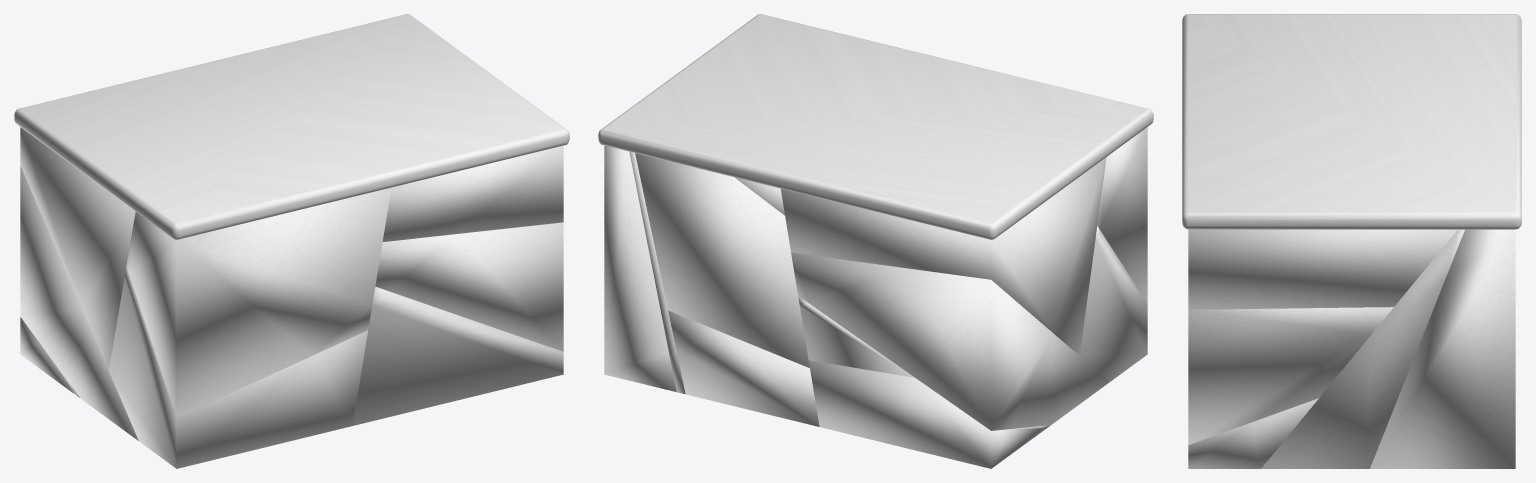
Rendered from fracture-solids.glb.
The picture shows the model from 3 angles, left to right: view 1: azimuth 30°, elevation 25°; view 2: azimuth 150°, elevation 25°; view 3: azimuth 270°, elevation 25°; orthographic projection. The views are drawn at different scales.
Visible parts, largest first — view 1: fragment-016, fragment-004, fragment-005, fragment-002, fragment-009, fragment-001, fragment-008, fragment-003, fragment-010; view 2: fragment-016, fragment-003, fragment-001, fragment-013, fragment-010, fragment-007, fragment-015, fragment-005, fragment-004, fragment-012, fragment-006, fragment-000; view 3: fragment-016, fragment-007, fragment-008, fragment-009, fragment-006, fragment-002.
Part boxes in pixels (x1,y1,x2,y2): fragment-016: [14, 14, 569, 239]; fragment-004: [126, 187, 391, 417]; fragment-005: [109, 267, 367, 468]; fragment-002: [352, 286, 563, 425]; fragment-009: [375, 222, 563, 351]; fragment-001: [20, 127, 135, 370]; fragment-008: [382, 145, 563, 241]; fragment-003: [20, 166, 138, 440]; fragment-010: [20, 317, 74, 393]; fragment-016: [598, 14, 1153, 239]; fragment-003: [791, 252, 1109, 430]; fragment-001: [780, 157, 1106, 355]; fragment-013: [635, 153, 809, 367]; fragment-010: [808, 360, 1045, 468]; fragment-007: [604, 145, 676, 391]; fragment-015: [668, 310, 819, 426]; fragment-005: [1079, 226, 1147, 381]; fragment-004: [1097, 127, 1147, 302]; fragment-012: [798, 296, 914, 377]; fragment-006: [629, 151, 685, 394]; fragment-000: [735, 177, 784, 215]; fragment-016: [1182, 14, 1521, 229]; fragment-007: [1370, 229, 1515, 468]; fragment-008: [1188, 229, 1457, 309]; fragment-009: [1188, 307, 1393, 444]; fragment-006: [1261, 229, 1464, 468]; fragment-002: [1188, 398, 1318, 468].
Bounding box in the file's own units: 0.3 × 0.1773 × 0.2123.
Materials: 1 (1 with a texture image).
